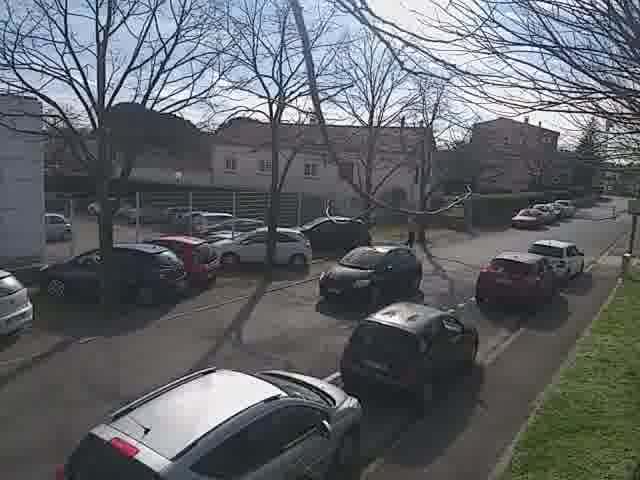persona: (398, 207, 421, 249)
